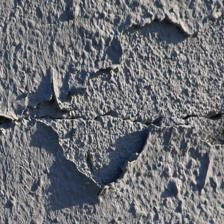Crack: (30, 78, 132, 144), (25, 174, 107, 205)
